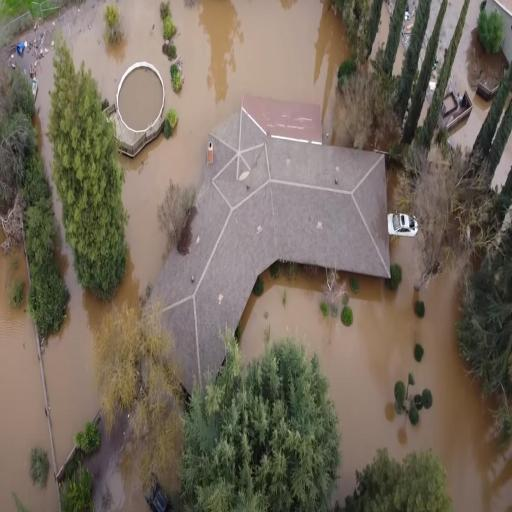flood: (7, 0, 351, 306), (241, 238, 512, 510), (42, 184, 111, 467), (0, 246, 57, 511), (451, 0, 492, 147), (119, 68, 162, 124), (438, 0, 464, 64), (495, 135, 512, 184), (426, 0, 441, 45)
house: (138, 94, 392, 416)
